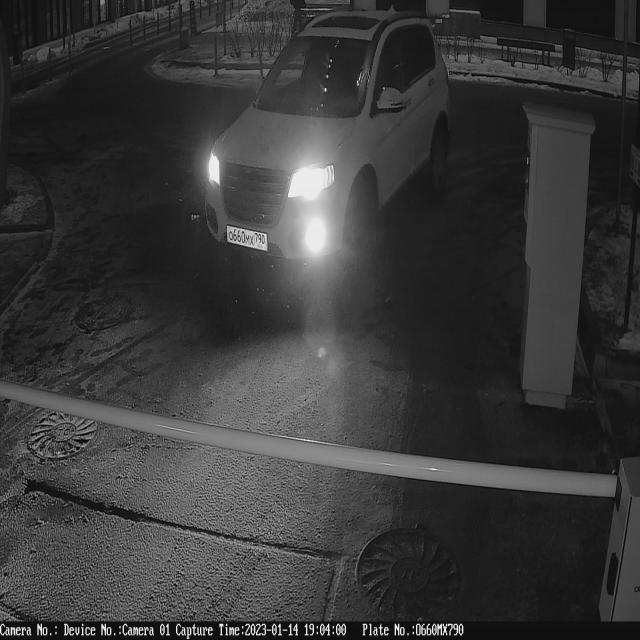car-plate-numbers: (225, 219, 272, 260)
